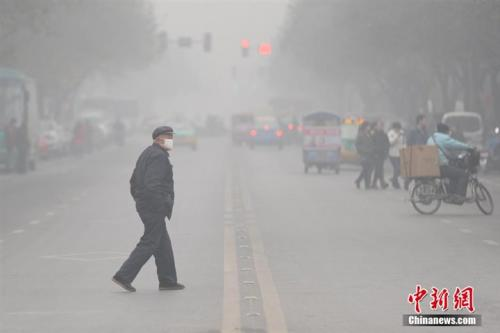person: (112, 125, 186, 294), (424, 123, 478, 198), (355, 120, 375, 191), (370, 122, 391, 189), (386, 121, 406, 189), (408, 114, 429, 146)
